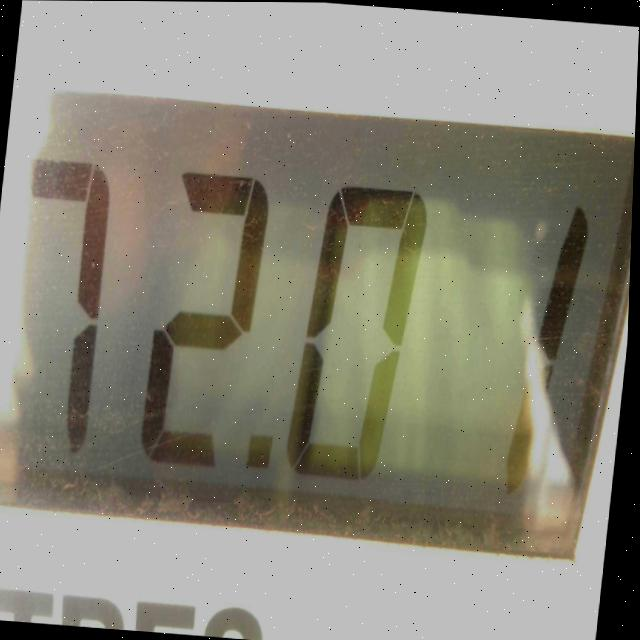.: (224, 415, 288, 494)
0: (274, 149, 440, 503)
1: (478, 196, 608, 508)
2: (127, 146, 278, 484)
7: (0, 139, 153, 477)
